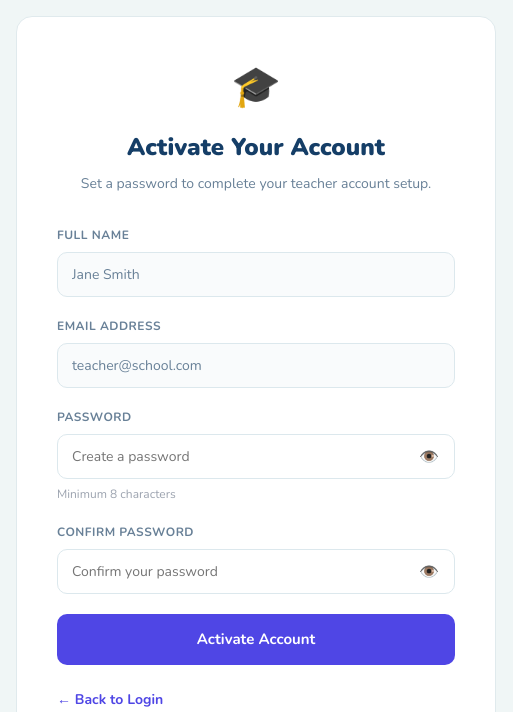
AcceptInvitation page › submit button is disabled while request is in flight
Expected: the heading "Activate Your Account" is shown, [127,131,385,163]
Type "SecurePass123!" into the password field labelled "Create a password" at (256, 456), box [57,434,455,479]
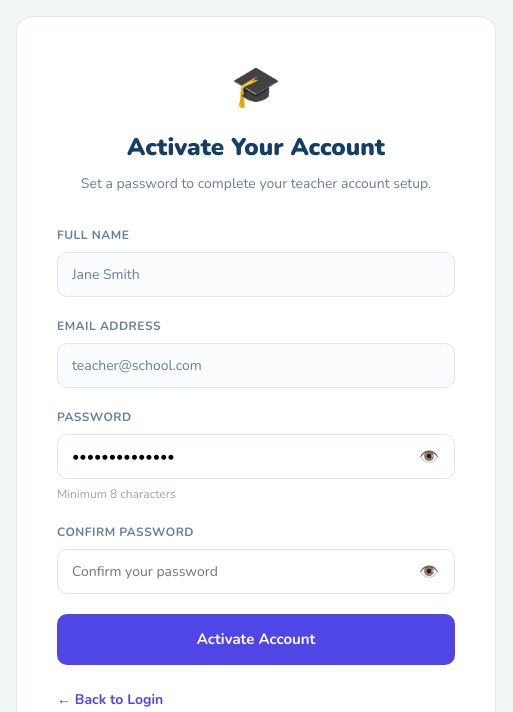
Type "SecurePass123!" into the password field named "Confirm password" at (256, 572), box [57,549,455,594]
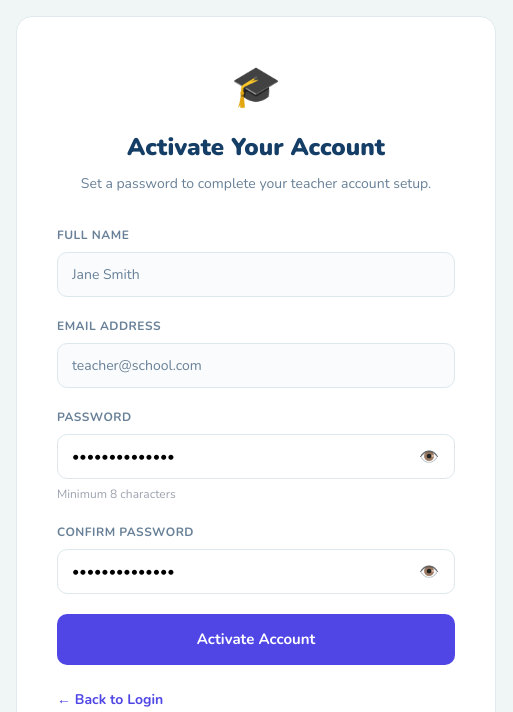
Click the button "Activate Account" at (256, 639), box [57,614,455,664]
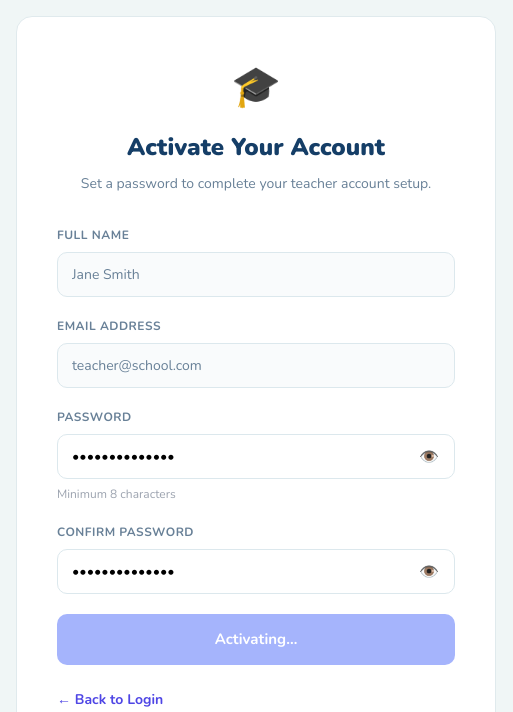
Now the button "Activating…" is disabled, box [57,614,455,664]
